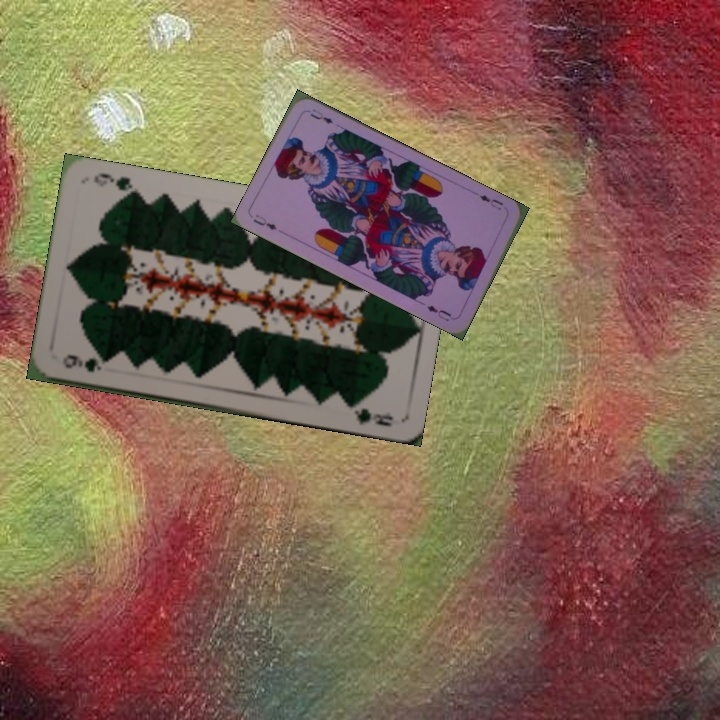EU: (475, 190, 510, 215), (249, 210, 279, 233)
G9: (58, 350, 104, 375)
